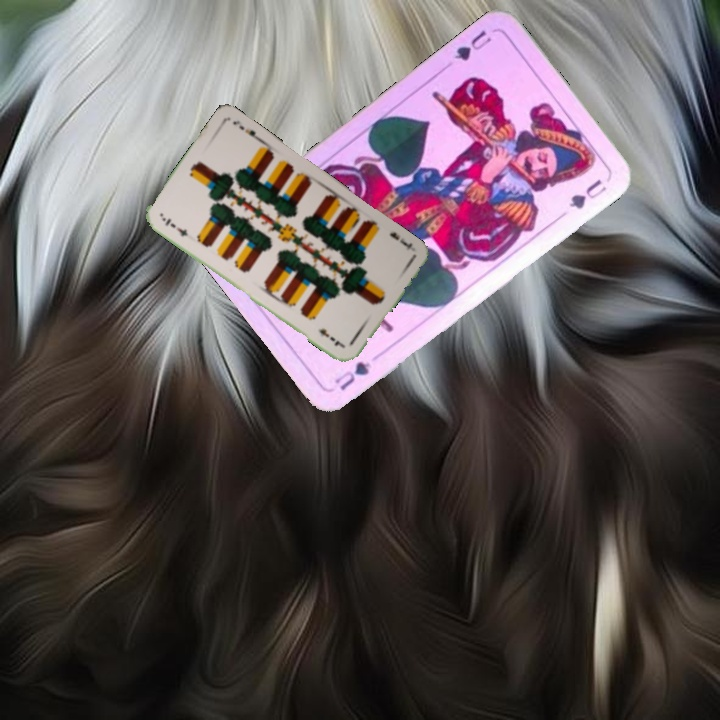E7: (158, 213, 191, 239), (386, 228, 415, 252)
GU: (450, 26, 494, 64), (330, 357, 375, 394)
